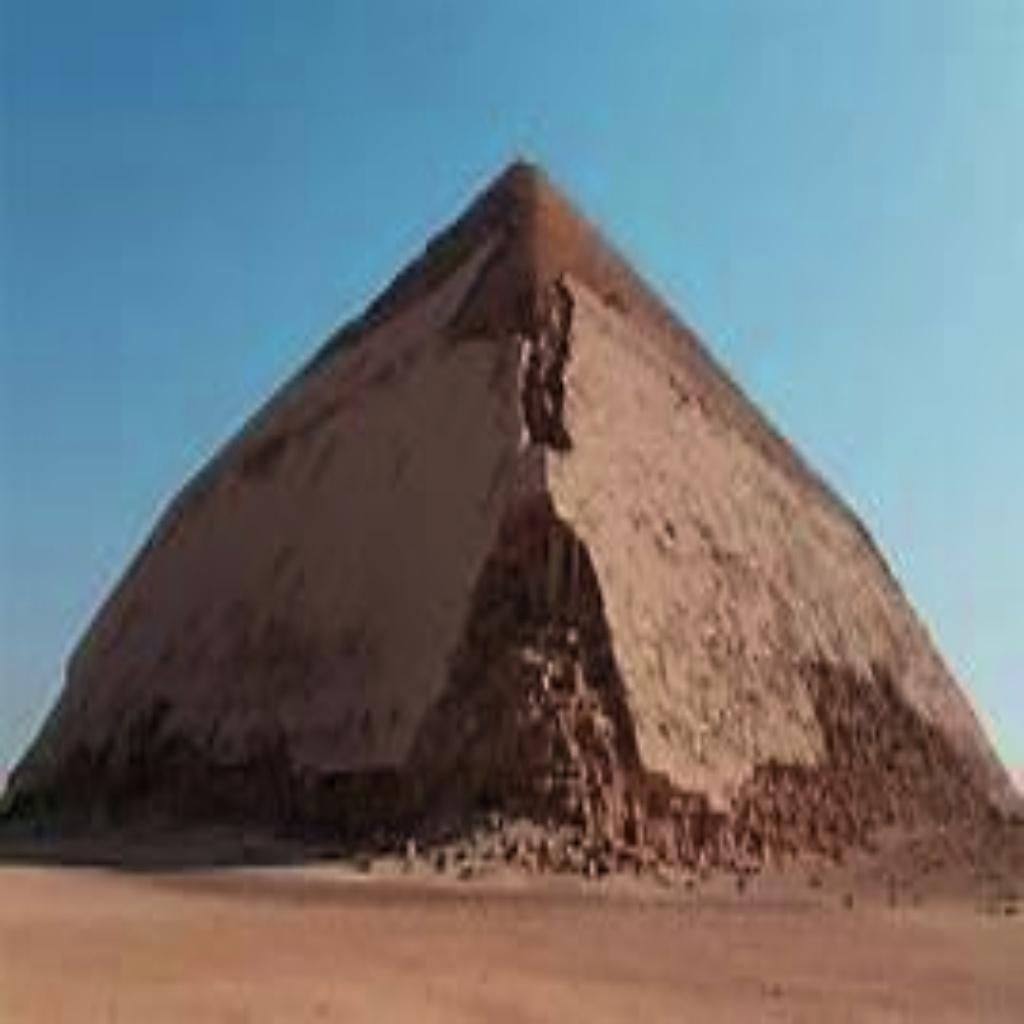Bent Pyramid of King Sneferu: (4, 144, 1016, 874)
